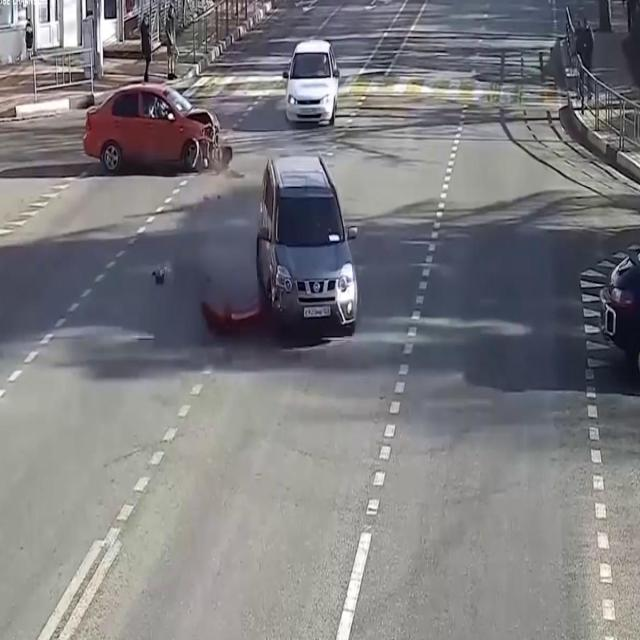accident: (189, 155, 367, 353), (80, 69, 236, 180)
